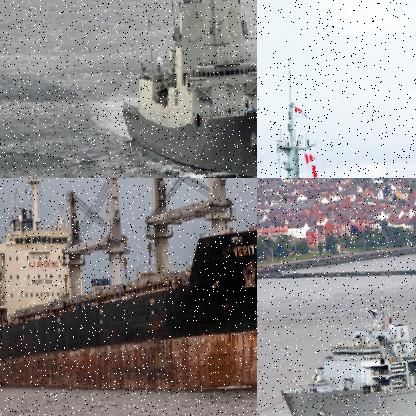Merchant Ship: (0, 178, 256, 400)
Military Ship: (111, 0, 256, 177), (276, 247, 415, 415), (257, 53, 415, 177)
